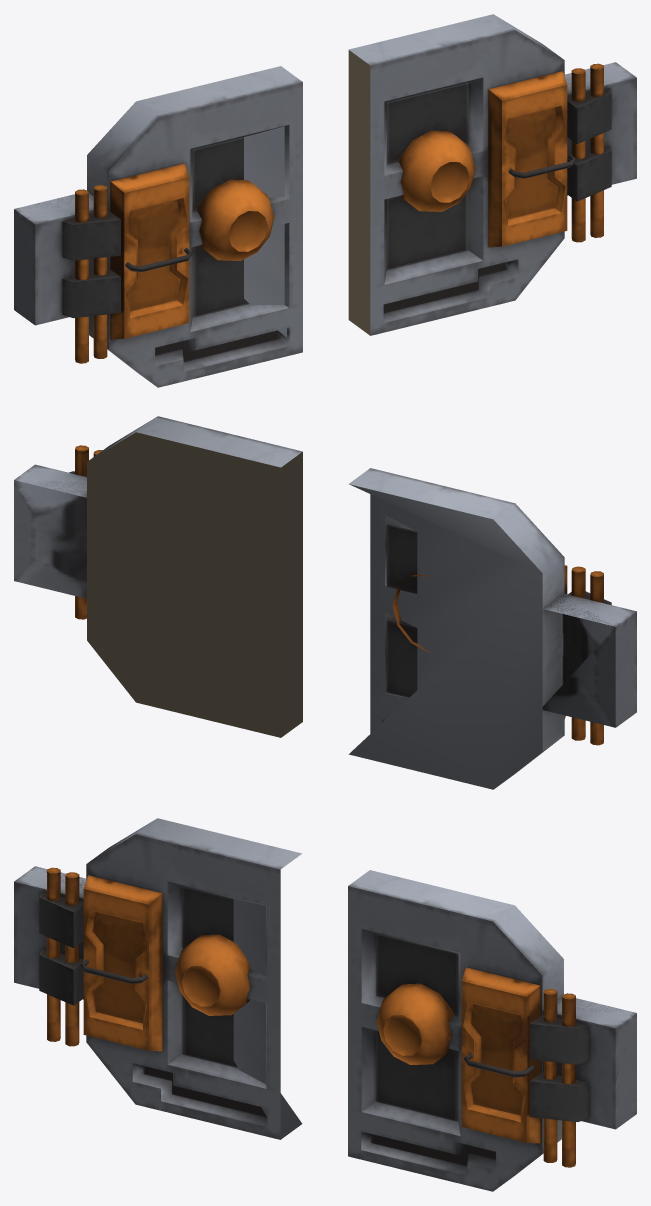
File: door 1.fbx
The picture shows the model from 3 angles, top to bottom: view 1: azimuth 30°, elevation 25°; view 2: azimuth 150°, elevation 25°; view 3: azimuth 330°, elevation 25°; orthographic projection.
Visible parts, largest first — view 1: 1.001, 1; view 2: 1.001, 1; view 3: 1.001, 1.
Boxes of the visible parts, x1,y1,x2,y2 form: 1.001: (348,14,636,335); 1: (14,66,302,387); 1.001: (14,416,302,737); 1: (348,468,636,789); 1.001: (348,870,636,1191); 1: (14,818,302,1139).
Bounding box in the file's own units: 1052 × 452 × 121.
